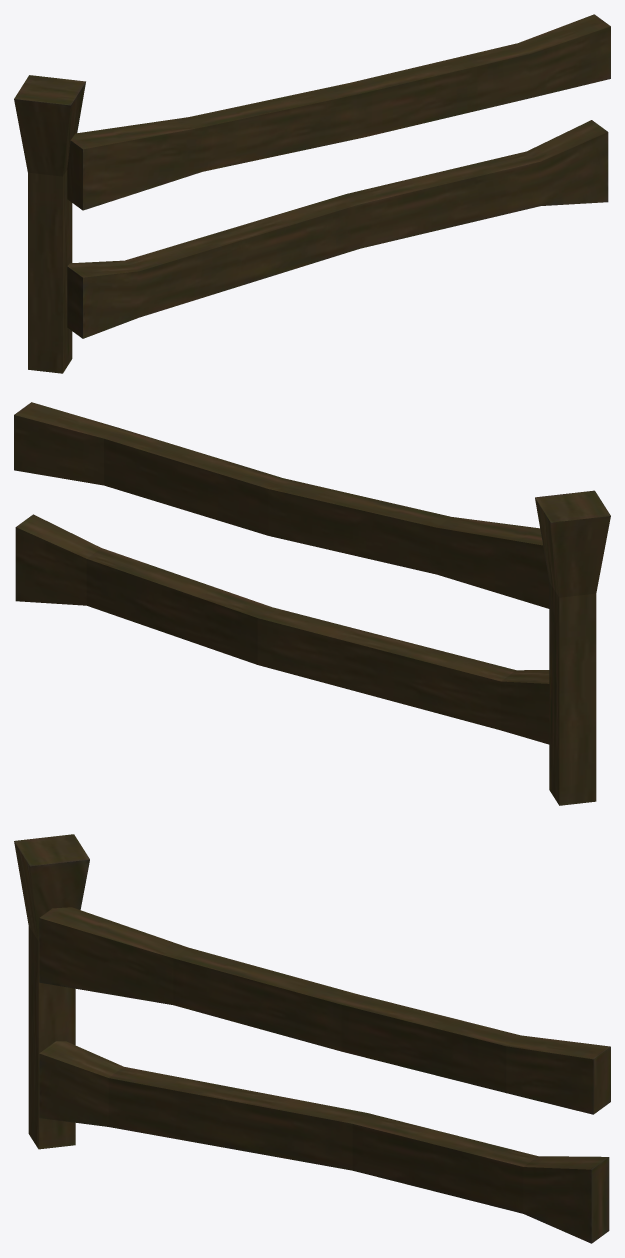
File: woodfence.glb
3 views of the same model, one above another, from view 1: azimuth 30°, elevation 25°; view 2: azimuth 150°, elevation 25°; view 3: azimuth 330°, elevation 25° (orthographic). The views are drawn at different scales.
Parts seen in each view (by area): view 1: SM_WoodFence; view 2: SM_WoodFence; view 3: SM_WoodFence.
Part boxes in pixels (x1,y1,x2,y2): SM_WoodFence: (14, 14, 610, 373); SM_WoodFence: (14, 402, 610, 805); SM_WoodFence: (14, 834, 610, 1243).
Size of the model in its own units: 2.13 by 0.973 by 0.3004.
1 material, 1 textured.
